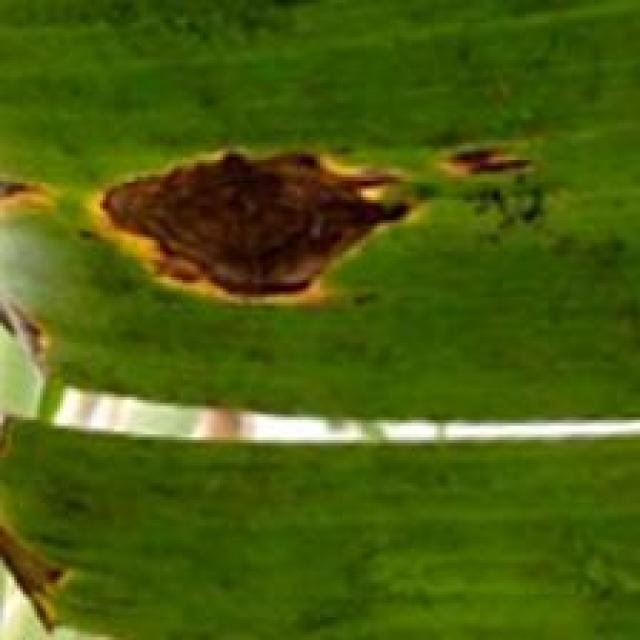Bacterial_spot: (66, 145, 439, 314), (0, 509, 89, 634), (446, 120, 532, 210), (0, 284, 61, 376), (0, 170, 63, 208)
